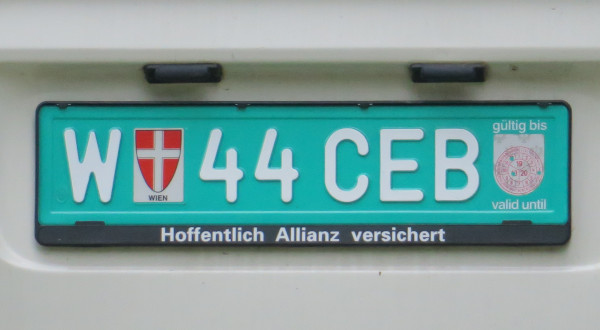license_plate: (34, 100, 571, 229)
